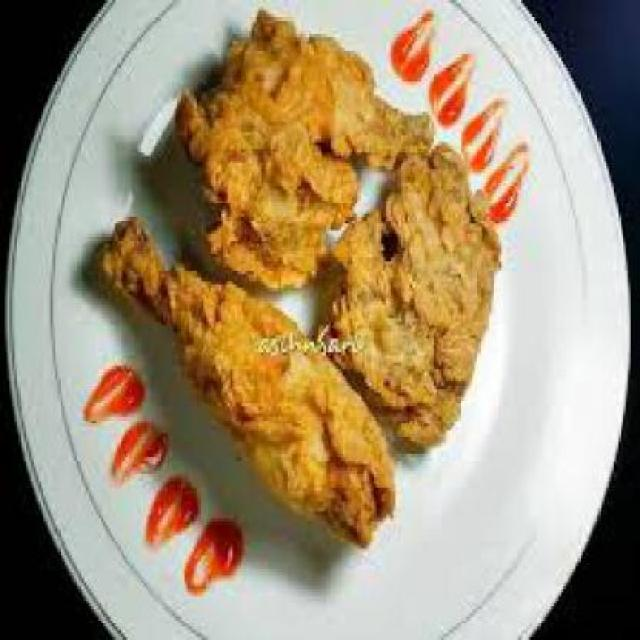Chicken -Fried Chicken-: (102, 220, 396, 549), (177, 8, 434, 292), (319, 149, 506, 451)
